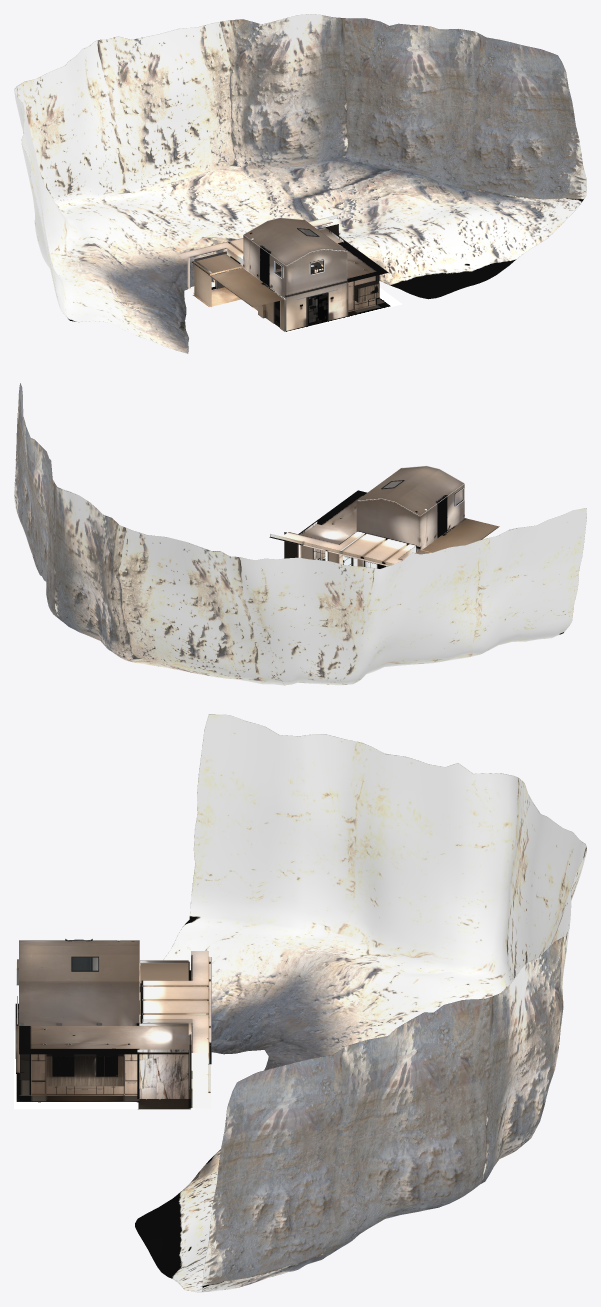
The model's file is quary-room-v-2.glb.
3 renders of one model, top to bottom at view 1: azimuth 30°, elevation 25°; view 2: azimuth 150°, elevation 25°; view 3: azimuth 270°, elevation 25°, orthographic. The views are drawn at different scales.
Visible parts, largest first — view 1: Plane007.001, BAKE_40.001, BAKE_36.001, Plane006.001, BAKE_32.001, BAKE_43.001, Object005.001, Plane001.001; view 2: Plane007.001, BAKE_36.001, BAKE_38.001, BAKE_40.001, Plane006.001; view 3: Plane007.001, BAKE_36.001, Plane006.001, BAKE_32.001, BAKE_38.001, BAKE_43.001.
Part boxes in pixels (x1=…): Plane007.001: x1=14, y1=14, x2=586, y2=353; BAKE_40.001: x1=210, y1=234, x2=347, y2=331; BAKE_36.001: x1=244, y1=218, x2=388, y2=282; Plane006.001: x1=177, y1=215, x2=337, y2=306; BAKE_32.001: x1=347, y1=275, x2=379, y2=316; BAKE_43.001: x1=253, y1=264, x2=402, y2=332; Object005.001: x1=308, y1=293, x2=327, y2=326; Plane001.001: x1=260, y1=228, x2=328, y2=327; Plane007.001: x1=14, y1=383, x2=586, y2=685; BAKE_36.001: x1=298, y1=466, x2=463, y2=544; BAKE_38.001: x1=284, y1=498, x2=419, y2=566; BAKE_40.001: x1=401, y1=465, x2=499, y2=552; Plane006.001: x1=269, y1=531, x2=431, y2=566; Plane007.001: x1=135, y1=714, x2=586, y2=1292; BAKE_36.001: x1=19, y1=940, x2=188, y2=1054; Plane006.001: x1=140, y1=951, x2=211, y2=1108; BAKE_32.001: x1=16, y1=1026, x2=137, y2=1095; BAKE_38.001: x1=137, y1=992, x2=191, y2=1098; BAKE_43.001: x1=14, y1=1030, x2=194, y2=1109.
Size of the model in its own units: 49.48 by 15.96 by 31.79.
23 materials, 18 textured.
